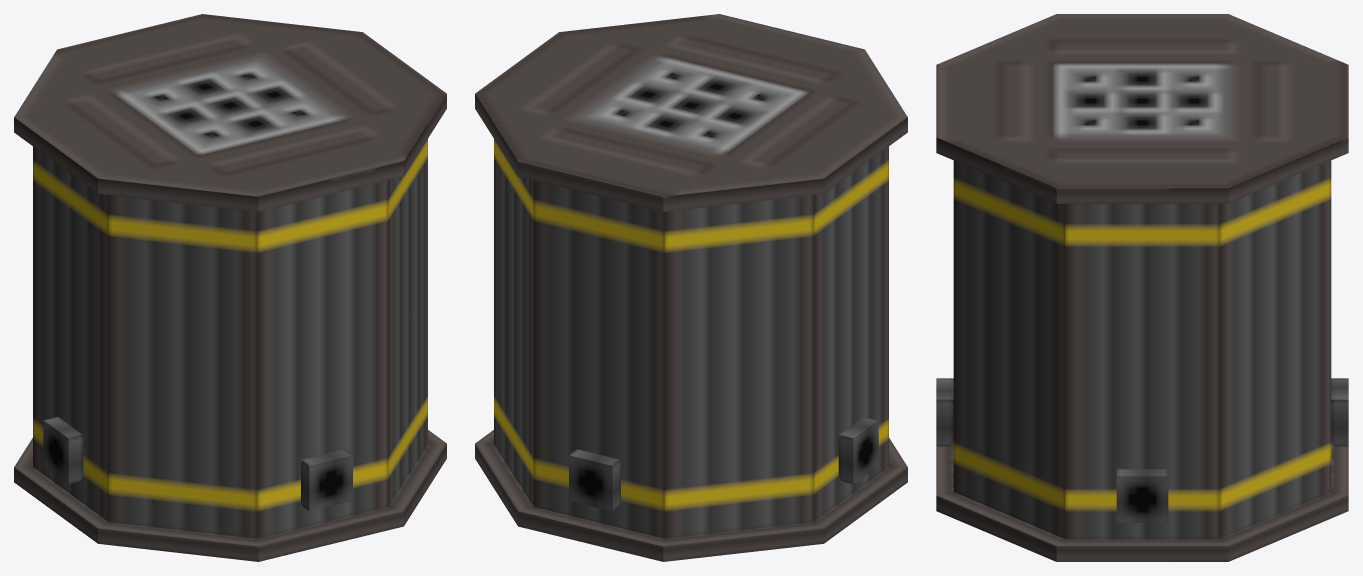
Rendered from fraction_tower.obj.
3 renders of one model, left to right at view 1: azimuth 30°, elevation 25°; view 2: azimuth 150°, elevation 25°; view 3: azimuth 270°, elevation 25°, orthographic. The views are drawn at different scales.
Visible parts, largest first — view 1: Plane; view 2: Plane; view 3: Plane.
Part boxes in pixels (x1,y1,x2,y2): Plane: [14, 14, 446, 561]; Plane: [475, 14, 907, 561]; Plane: [936, 14, 1348, 561].
Bounding box in the file's own units: 3 × 3 × 3.
